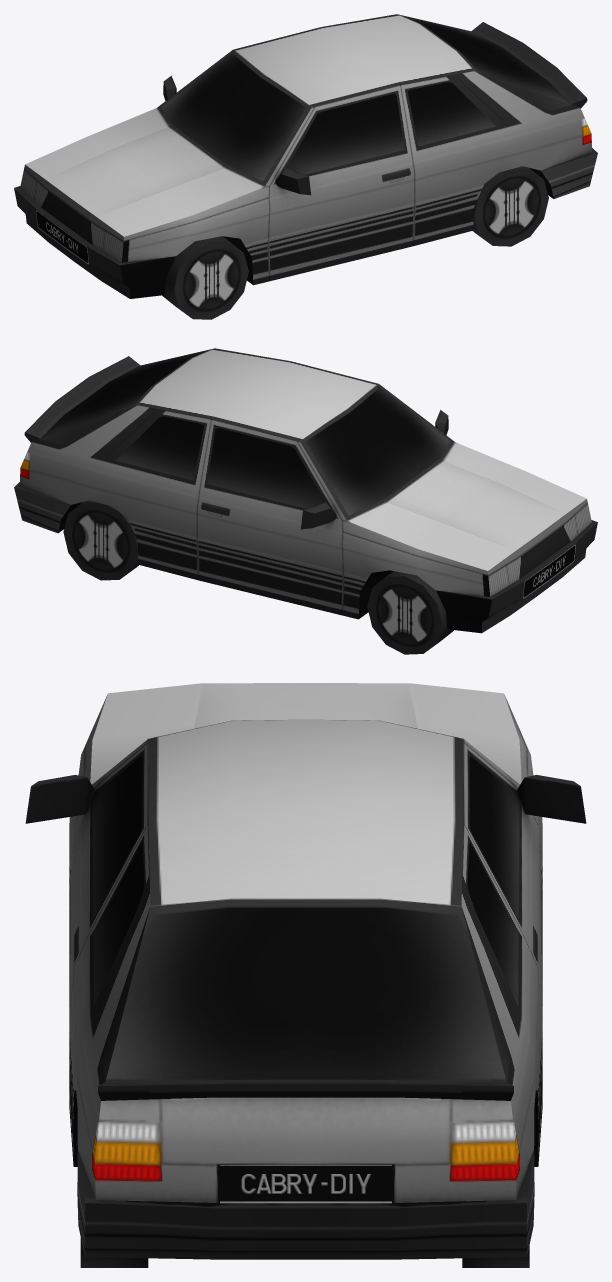
Rendered from Renault11.FBX.
3 renders of one model, top to bottom at view 1: azimuth 30°, elevation 25°; view 2: azimuth 150°, elevation 25°; view 3: azimuth 270°, elevation 25°, orthographic. The views are drawn at different scales.
Parts seen in each view (by area): view 1: MESH_Renault11, MESH_FrontW_L, MESH_BackW_L; view 2: MESH_Renault11, MESH_FrontW_R, MESH_BackW_R; view 3: MESH_Renault11, MESH_BackW_L.
Boxes of the visible parts, box(x1,y1,x2,y2) form: MESH_Renault11: box(14, 14, 597, 298); MESH_FrontW_L: box(162, 236, 248, 319); MESH_BackW_L: box(473, 166, 548, 246); MESH_Renault11: box(14, 348, 597, 633); MESH_FrontW_R: box(367, 571, 453, 654); MESH_BackW_R: box(63, 500, 138, 580); MESH_Renault11: box(25, 683, 586, 1259); MESH_BackW_L: box(80, 1238, 148, 1267).
Size of the model in its own units: 91.85 by 32.15 by 45.79.
1 material, 1 textured.
